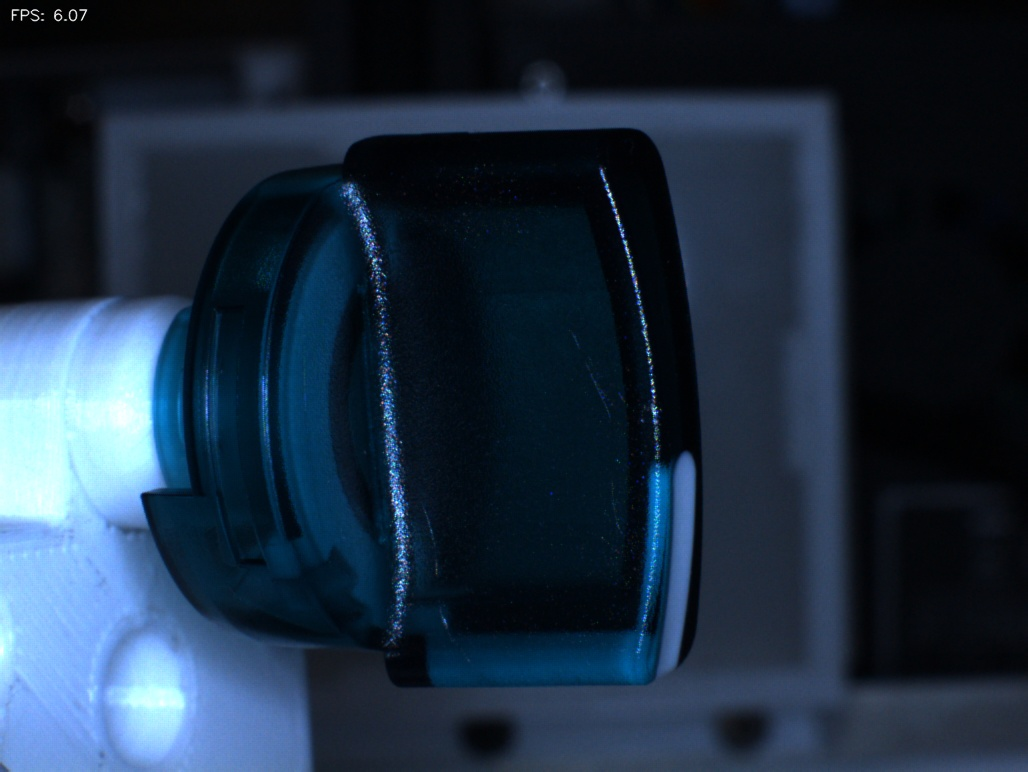Givrage: (415, 486, 479, 667), (556, 312, 640, 434), (578, 468, 640, 567)
